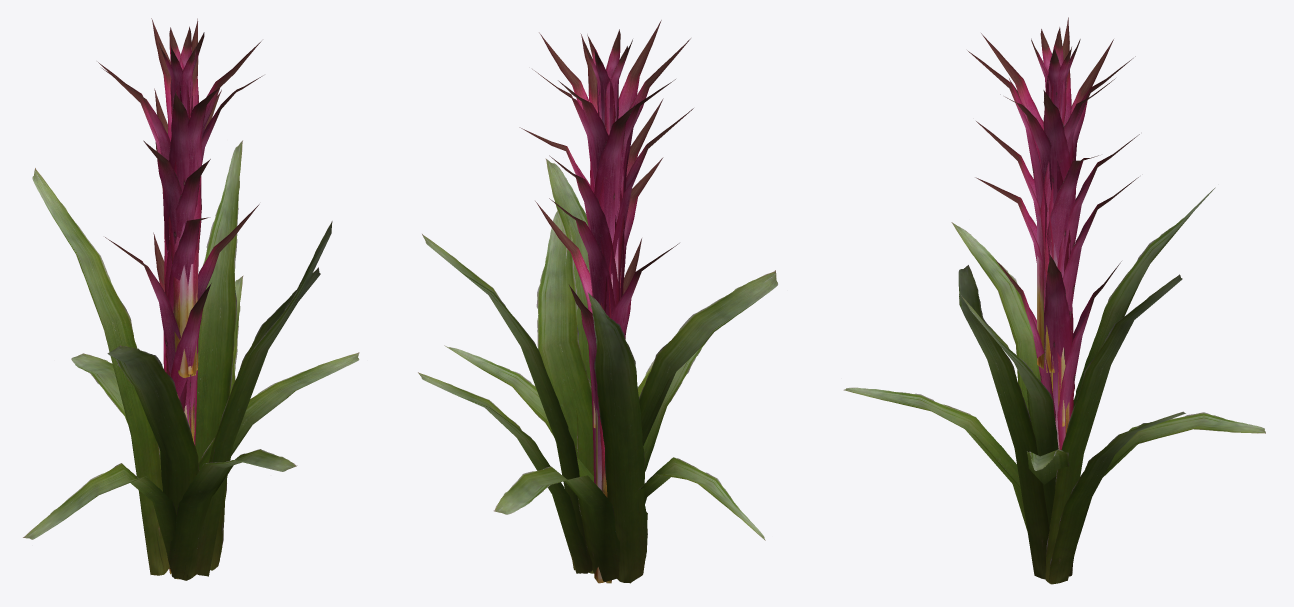
The model's file is flower 4.dae.
The picture shows the model from 3 angles, left to right: view 1: azimuth 30°, elevation 25°; view 2: azimuth 150°, elevation 25°; view 3: azimuth 270°, elevation 25°; orthographic projection.
Visible parts, largest first — view 1: flower_4_Group4_Form25, flower_4_Group4_Group2_Form2, flower_4_Group4_Group3_Form2; view 2: flower_4_Group4_Form25, flower_4_Group4_Group2_Form2, flower_4_Group4_Group3_Form2; view 3: flower_4_Group4_Form25, flower_4_Group4_Group2_Form2, flower_4_Group4_Group3_Form2.
Part boxes in pixels (x1,y1,x2,y2): flower_4_Group4_Form25: (23,41,359,580); flower_4_Group4_Group2_Form2: (105,18,259,579); flower_4_Group4_Group3_Form2: (158,26,204,119); flower_4_Group4_Form25: (418,32,778,583); flower_4_Group4_Group2_Form2: (519,20,693,583); flower_4_Group4_Group3_Form2: (583,29,632,135); flower_4_Group4_Form25: (841,17,1265,584); flower_4_Group4_Group2_Form2: (967,33,1139,449); flower_4_Group4_Group3_Form2: (1031,27,1080,126).
Bounding box in the file's own units: 36.37 × 54.08 × 41.06.
Materials: 1 (1 with a texture image).
